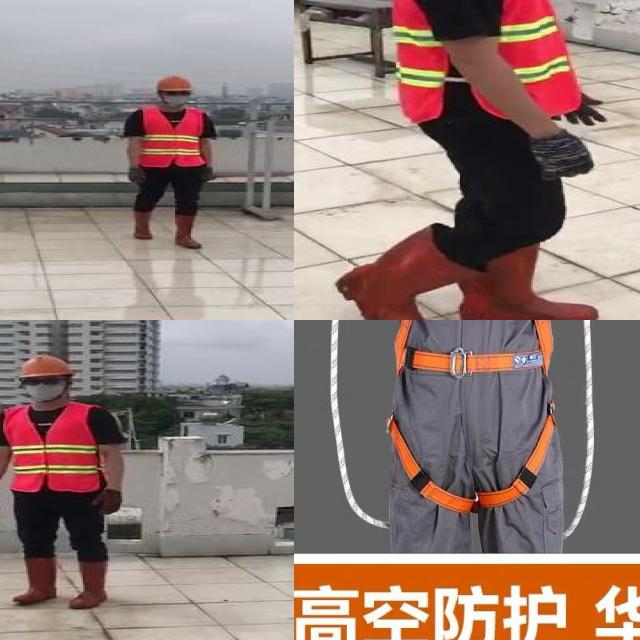Harness: (389, 320, 558, 512)
boots: (335, 225, 484, 320), (454, 238, 602, 320), (519, 133, 597, 180), (14, 559, 60, 606), (67, 560, 110, 609), (173, 212, 207, 250), (129, 209, 157, 240)
face_mask: (23, 375, 68, 401), (161, 88, 191, 106)
glasses: (22, 376, 66, 388), (160, 89, 192, 98)
hand_glove: (88, 490, 122, 515), (125, 168, 147, 184), (198, 170, 214, 188)
head_helmet: (16, 356, 74, 378), (153, 74, 194, 93)
person: (326, 0, 611, 320), (0, 350, 132, 612), (120, 72, 226, 254)
vest: (394, 0, 580, 120), (3, 405, 106, 493), (141, 108, 207, 168)
